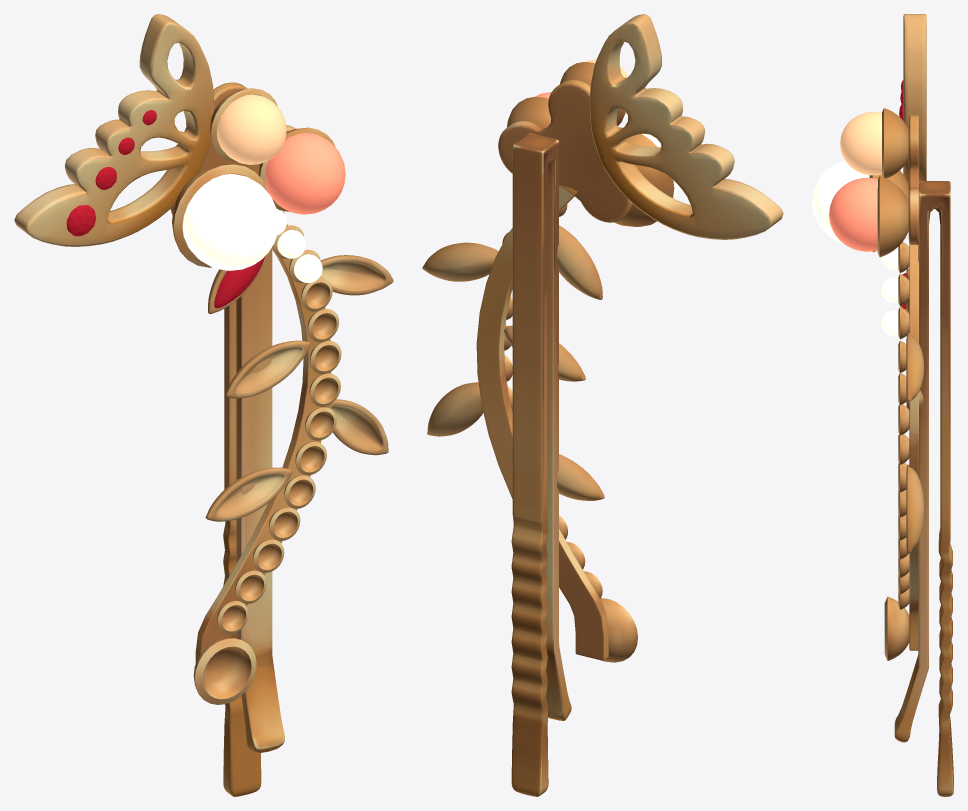
3 views of the same model, side by side, from view 1: azimuth 30°, elevation 25°; view 2: azimuth 150°, elevation 25°; view 3: azimuth 270°, elevation 25° (orthographic). The views are drawn at different scales.
Parts seen in each view (by area): view 1: hairakuse; view 2: hairakuse; view 3: hairakuse.
Boxes of the visible parts, x1,y1,x2,y2 form: hairakuse: [14, 14, 393, 796]; hairakuse: [422, 14, 783, 796]; hairakuse: [812, 14, 953, 796].
Bounding box in the file's own units: 72.64 × 152 × 26.6.
